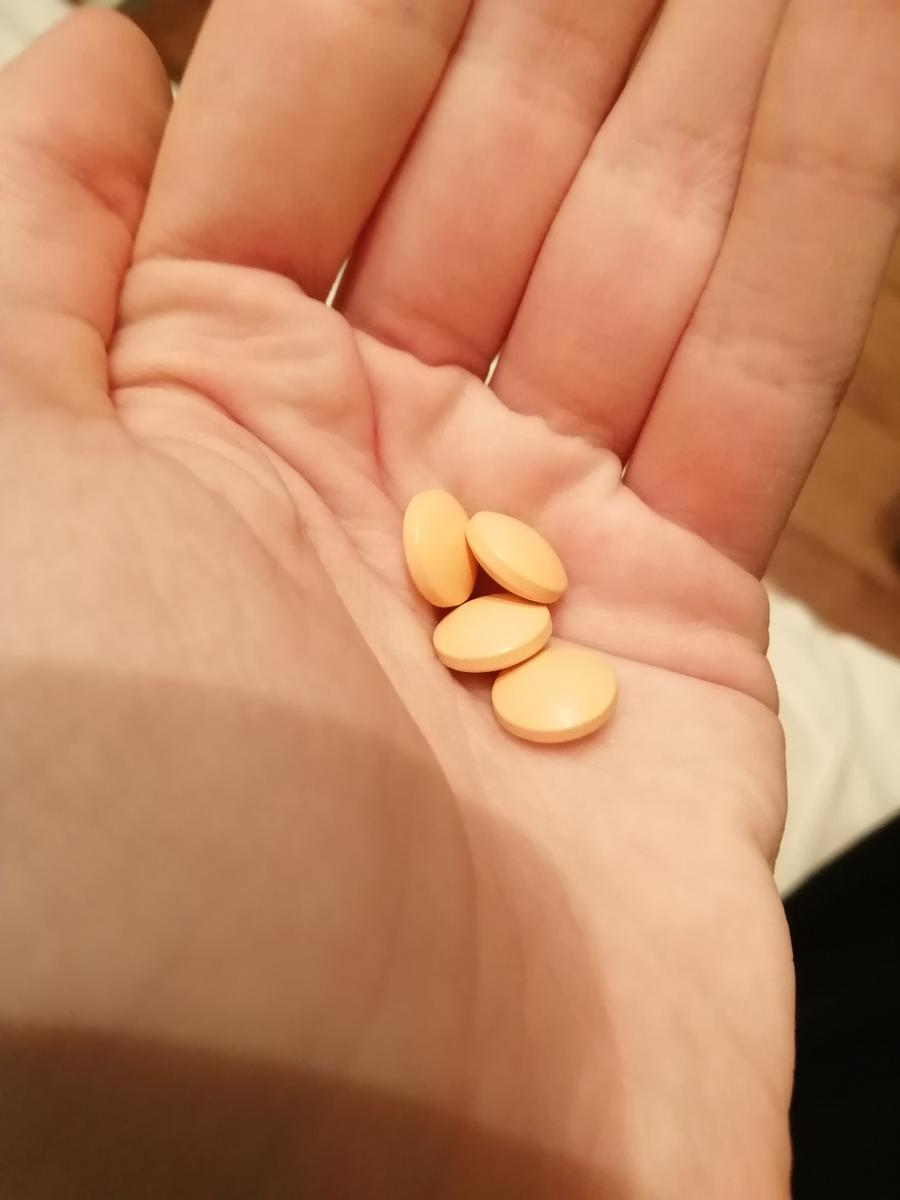tablet: (490, 646, 625, 740), (430, 586, 561, 673), (467, 508, 575, 604), (403, 486, 477, 609)
